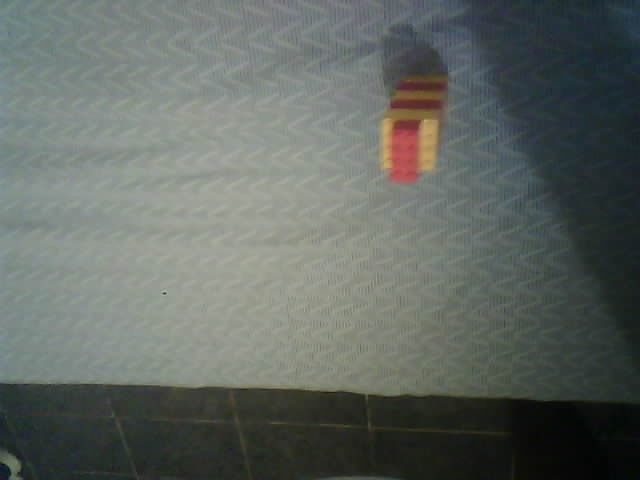lego: (379, 75, 449, 186)
